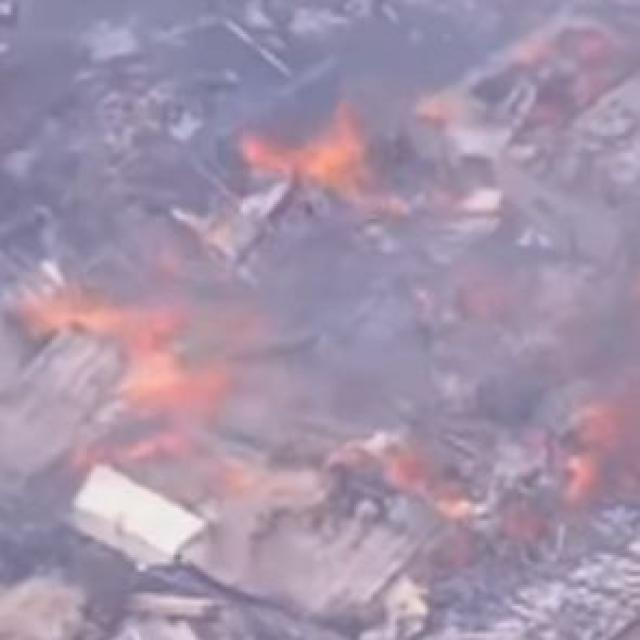Fire: (231, 107, 395, 207)
Smoke: (92, 310, 280, 467)
